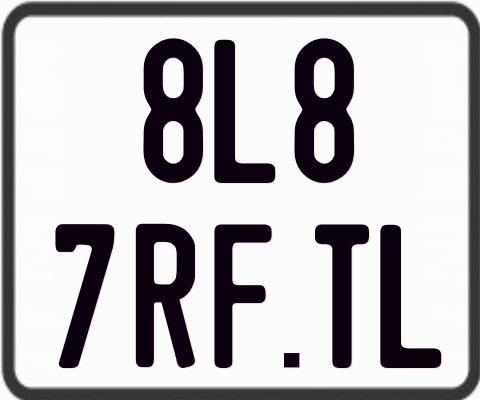7: (53, 223, 113, 371)
8: (294, 36, 357, 185), (141, 38, 204, 183)
F: (212, 221, 273, 370)
L: (380, 225, 446, 373), (211, 37, 275, 185)
R: (134, 224, 194, 369)
T: (313, 221, 373, 371)
